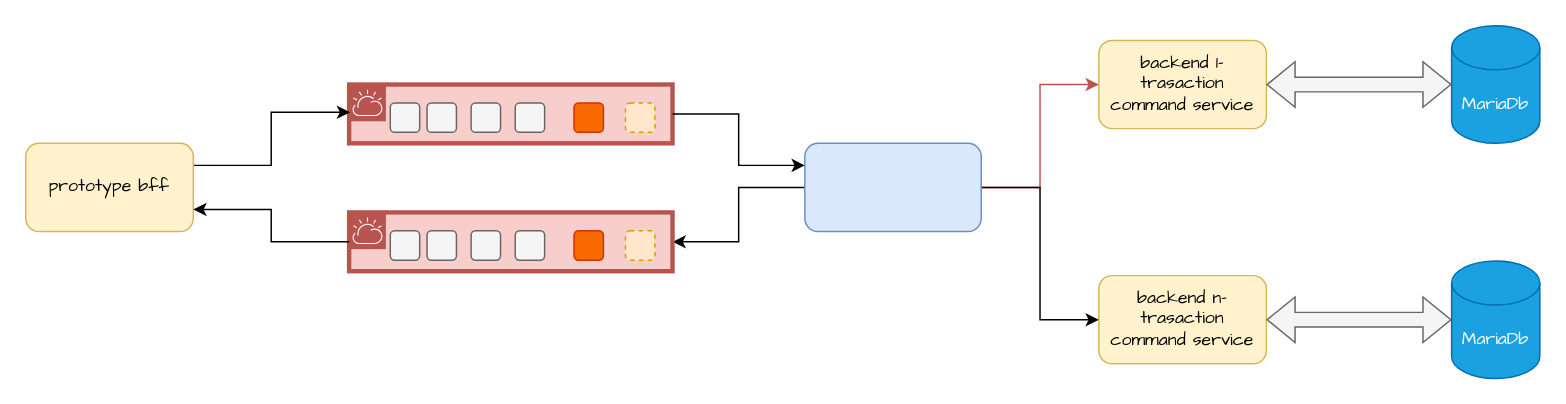
Some shapes in this 1566 by 404 pixel diagram are drawn without their labels. Each missing label, with the box of its shape:
<<interface>> prototype-orquestador: (803, 142, 981, 232)
kafka (publish-suscriber-response): (346, 209, 674, 273)
kafka (publish-suscriber-sink): (346, 82, 674, 145)
